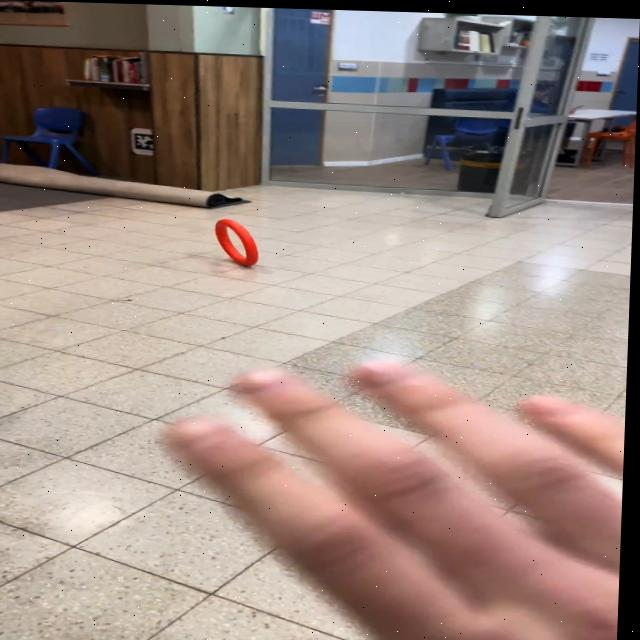note: (212, 215, 265, 268)
